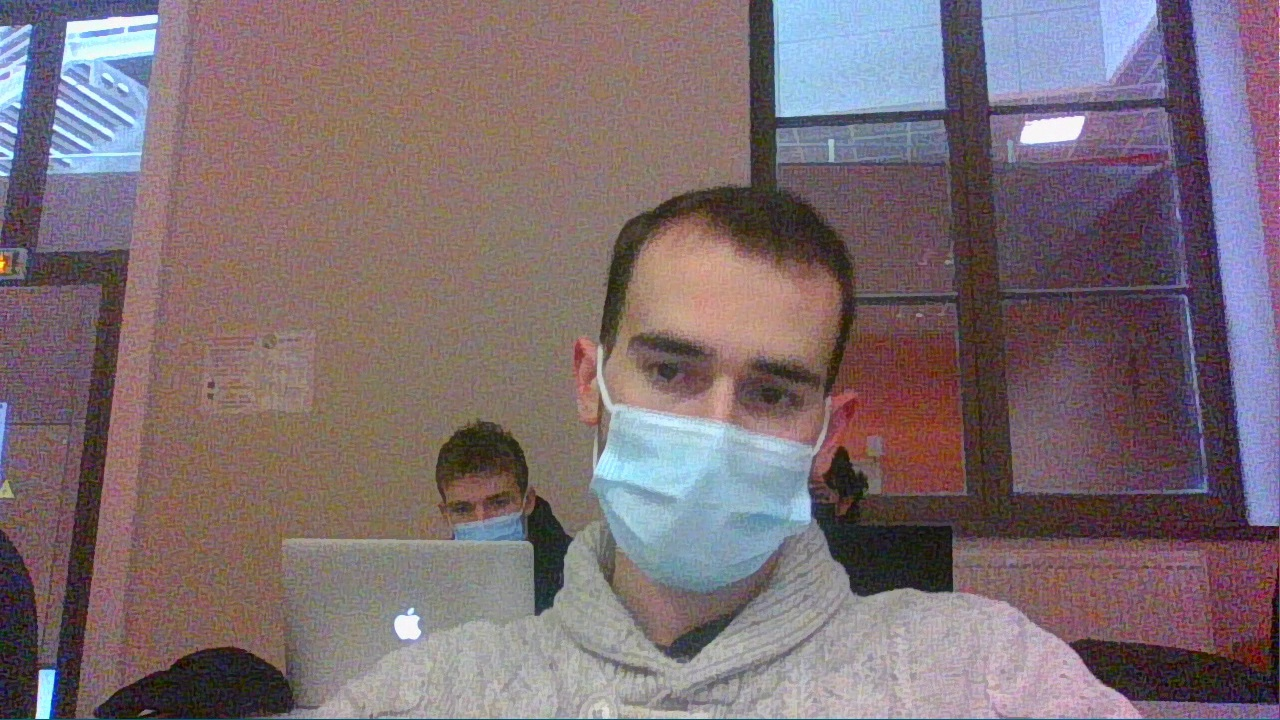mask: (564, 185, 827, 589), (433, 419, 525, 535)
